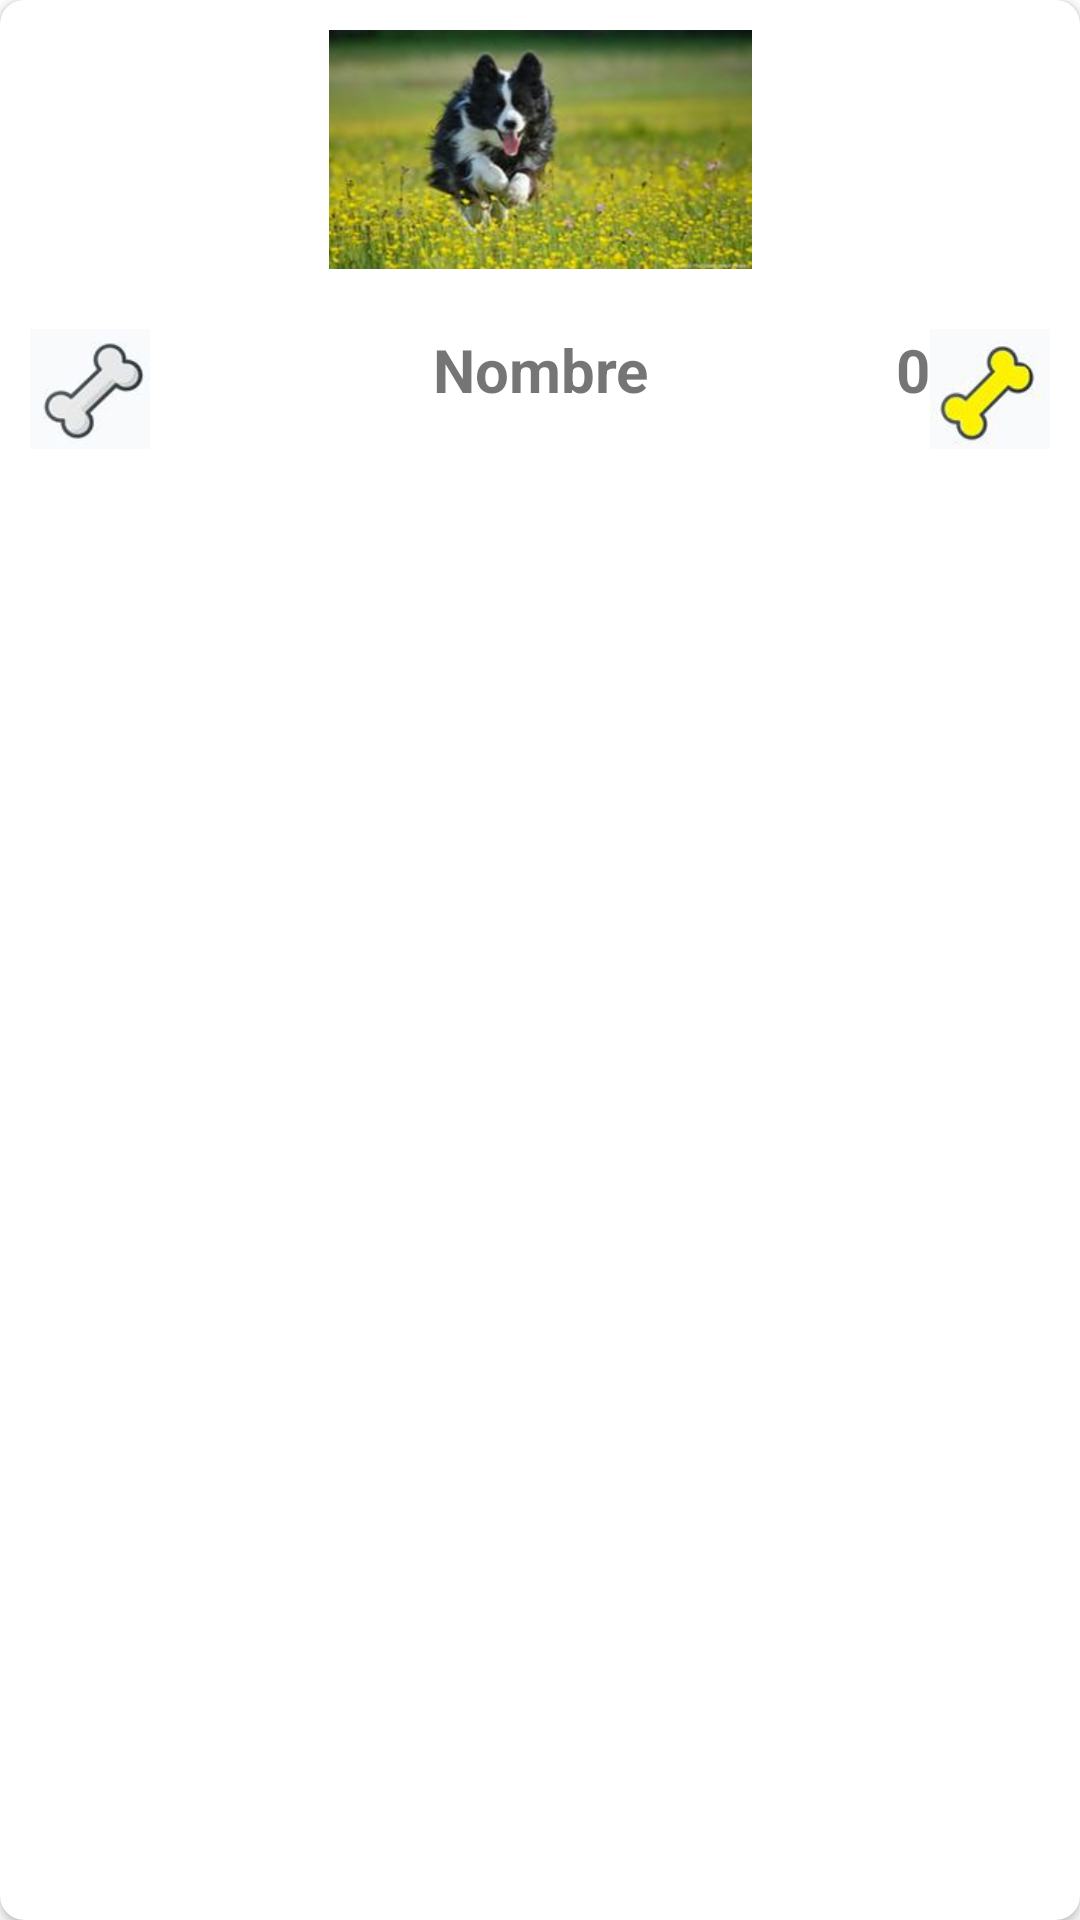

Named icons in this screenshot (1080 x 1920) and their bounding boxes, [x1=x1, y1=y1, x2=x2, y2=y2]:
hueso amarillo: [x1=940, y1=346, x2=1040, y2=444]
hueso blanco: [x1=44, y1=343, x2=143, y2=439]
